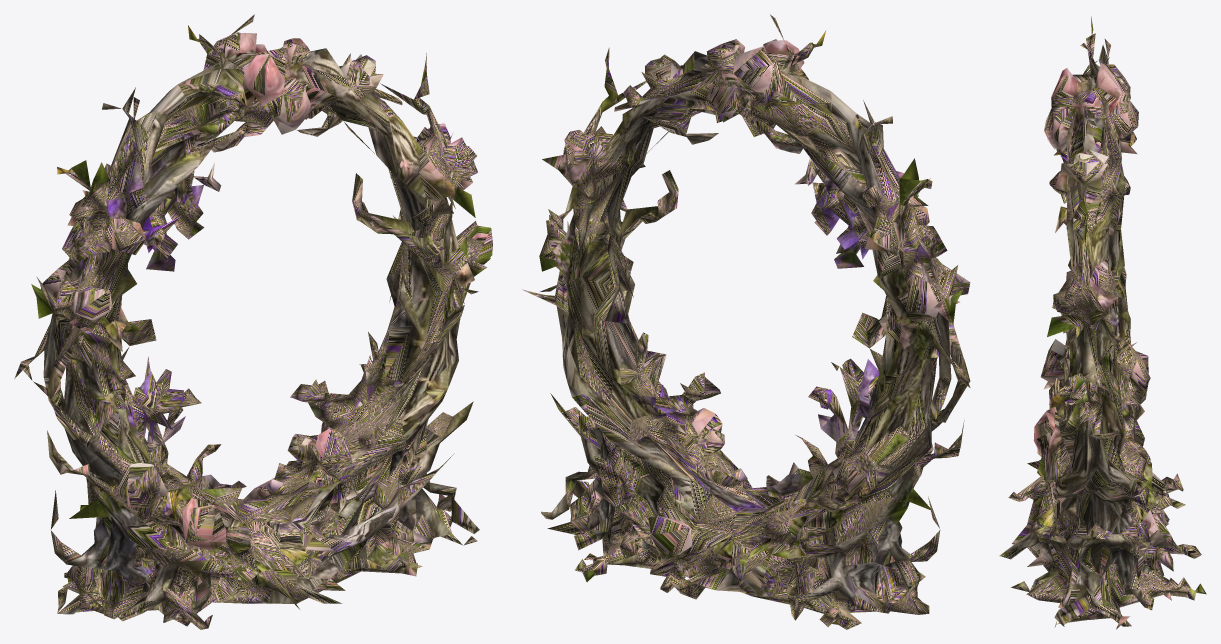
Rendered from Floral_Wreath_of_Spri.glb.
3 views of the same model, side by side, from view 1: azimuth 30°, elevation 25°; view 2: azimuth 150°, elevation 25°; view 3: azimuth 270°, elevation 25° (orthographic). The views are drawn at different scales.
Parts seen in each view (by area): view 1: Floral_Wreath_of_Spri; view 2: Floral_Wreath_of_Spri; view 3: Floral_Wreath_of_Spri.
Boxes of the visible parts, x1,y1,x2,y2 form: Floral_Wreath_of_Spri: (14, 14, 492, 629); Floral_Wreath_of_Spri: (522, 14, 970, 629); Floral_Wreath_of_Spri: (999, 16, 1206, 629).
Size of the model in its own units: 1.57 by 1.86 by 0.6984.
1 material, 1 textured.
